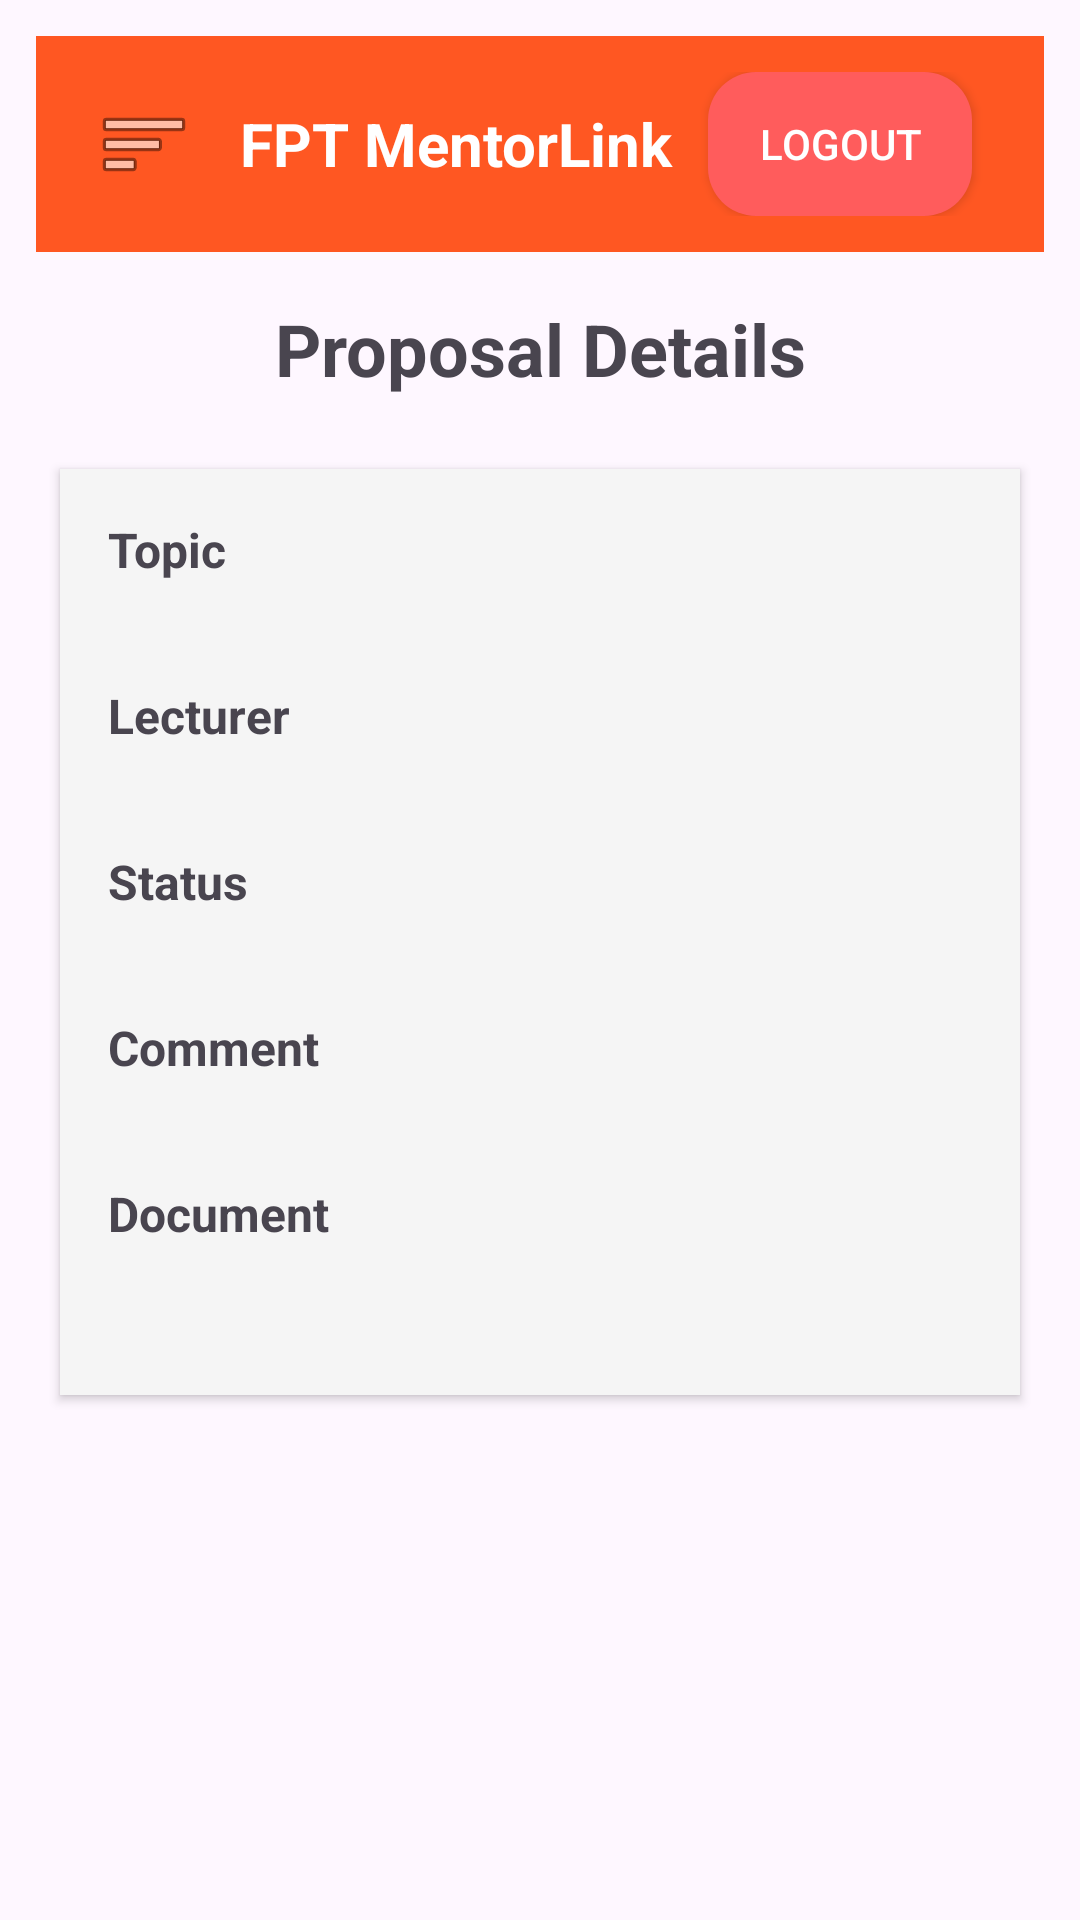

Icon bounding boxes for this 1080 x 1920 phone screenshot, format (x1, y1, x2, y2):
Menu: (103, 118, 185, 171)
